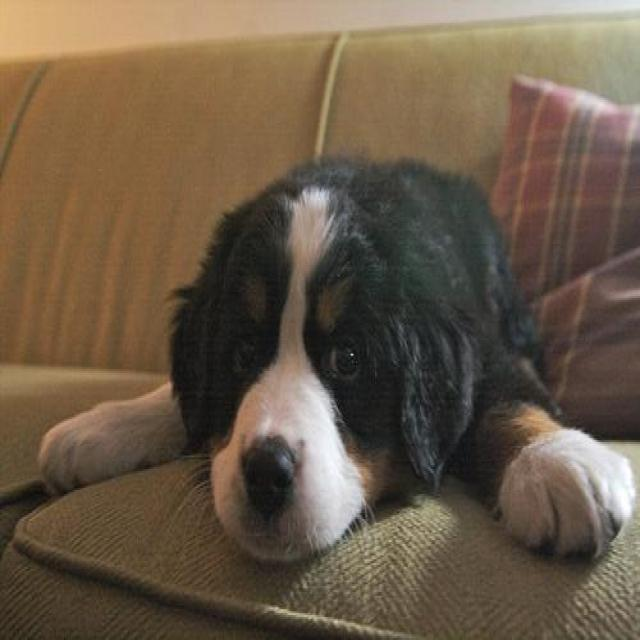puppy-dog: (34, 151, 632, 568)
